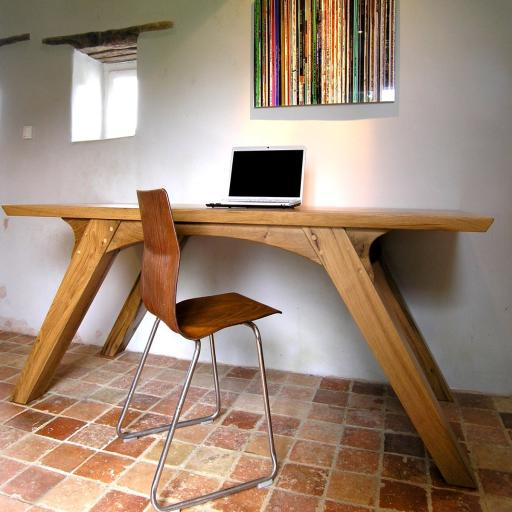chair: (117, 186, 282, 512)
desk: (0, 201, 494, 491)
wall: (0, 0, 512, 396)
